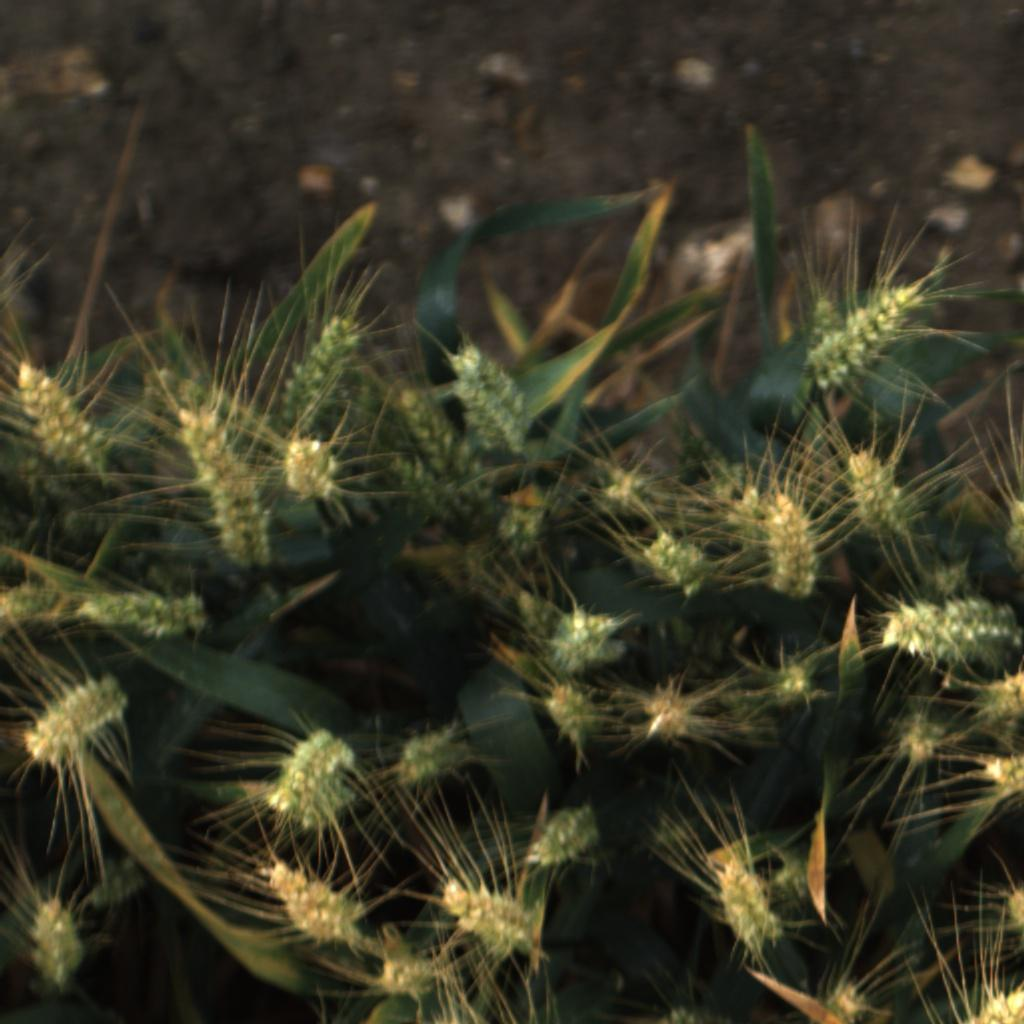0-0: (797, 281, 925, 391), (18, 672, 134, 778), (443, 344, 544, 459), (14, 359, 111, 477), (387, 375, 487, 487), (874, 589, 1023, 664), (249, 854, 365, 947), (274, 314, 365, 424), (257, 725, 358, 820), (436, 878, 547, 955), (709, 854, 784, 958), (202, 474, 276, 579), (171, 404, 258, 493), (764, 483, 822, 602), (456, 535, 536, 620), (23, 889, 86, 995), (138, 363, 236, 428), (701, 674, 782, 752), (744, 836, 821, 912), (521, 802, 599, 876), (842, 445, 906, 534), (546, 604, 625, 676), (388, 718, 466, 788), (800, 296, 854, 396), (279, 431, 344, 508), (642, 530, 712, 601), (596, 459, 672, 524), (723, 482, 789, 554), (671, 421, 740, 488), (76, 851, 148, 914), (372, 942, 451, 999), (769, 650, 835, 718), (891, 704, 953, 772), (540, 679, 604, 744), (74, 590, 174, 631), (509, 583, 566, 654), (137, 590, 214, 642), (438, 471, 504, 531), (300, 780, 369, 834), (0, 570, 60, 632), (910, 552, 980, 604), (640, 685, 699, 743), (968, 668, 1024, 727), (388, 454, 446, 510), (496, 495, 551, 553), (42, 472, 116, 512), (657, 428, 703, 492), (15, 453, 60, 517), (993, 495, 1023, 585), (980, 739, 1024, 800), (957, 984, 1023, 1024), (870, 485, 921, 534), (702, 463, 751, 513), (819, 980, 874, 1024), (58, 508, 128, 542), (1001, 884, 1024, 930), (655, 1003, 703, 1024)
